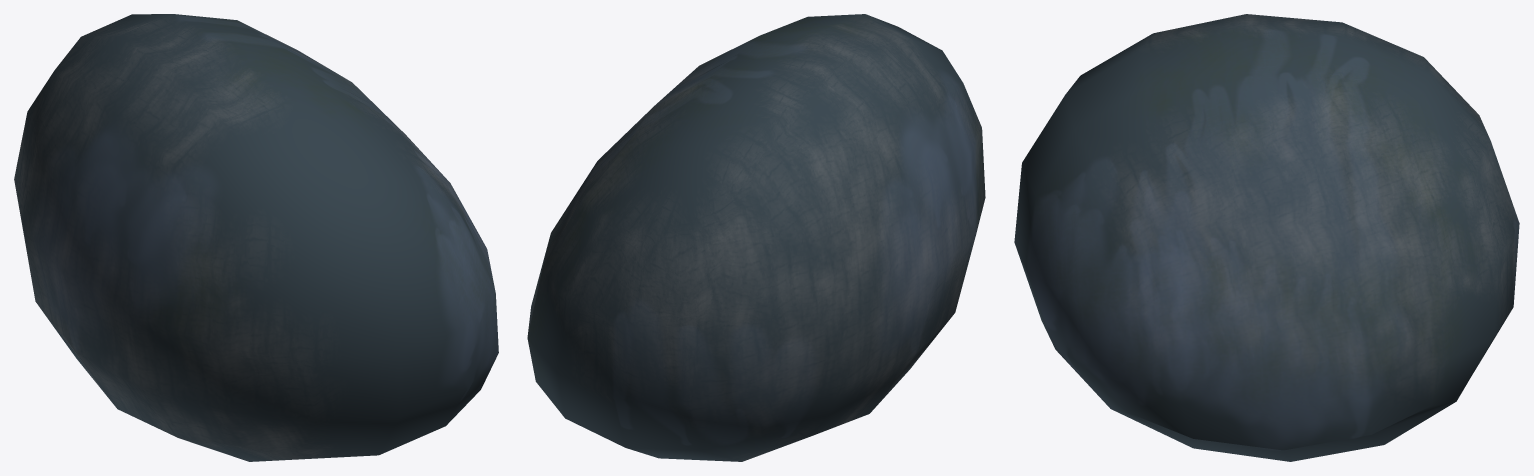
Rendered from piedra02.glb.
3 renders of one model, left to right at view 1: azimuth 30°, elevation 25°; view 2: azimuth 150°, elevation 25°; view 3: azimuth 270°, elevation 25°, orthographic. The views are drawn at different scales.
Parts seen in each view (by area): view 1: piedra_02-col; view 2: piedra_02-col; view 3: piedra_02-col.
Part boxes in pixels (left/top/right/bottom): piedra_02-col: left=14, top=14, right=498, bottom=461; piedra_02-col: left=527, top=14, right=985, bottom=461; piedra_02-col: left=1014, top=14, right=1519, bottom=461.
Size of the model in its own units: 1.69 by 1.76 by 2.16.
1 material, 1 textured.
